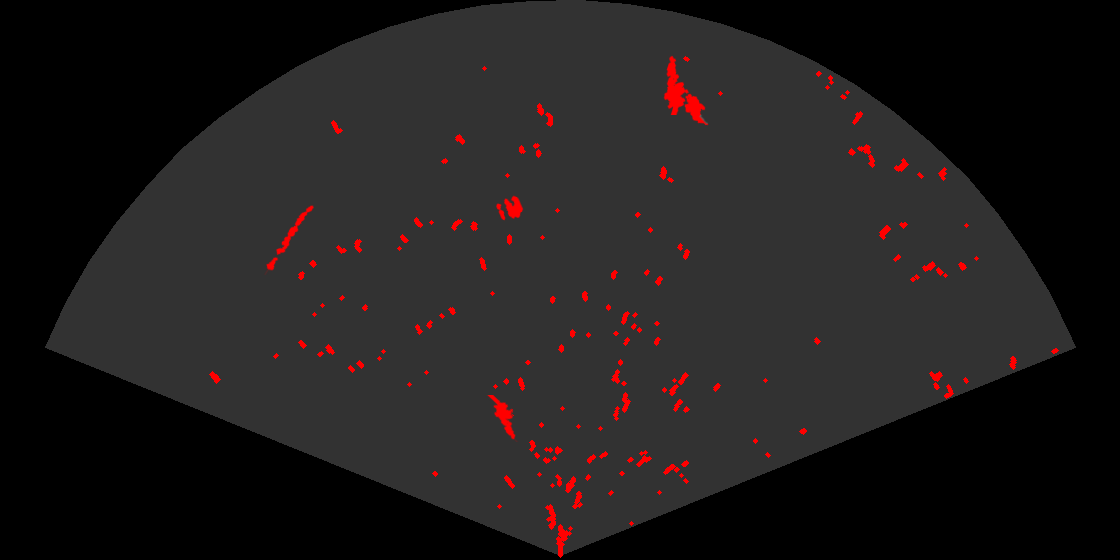AUV: (683, 92, 710, 127)
ball: (495, 194, 525, 222)
chain: (263, 204, 315, 275)
frogman: (662, 54, 691, 115), (485, 395, 520, 442)
